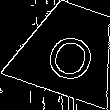O_N: (39, 19, 100, 81)
